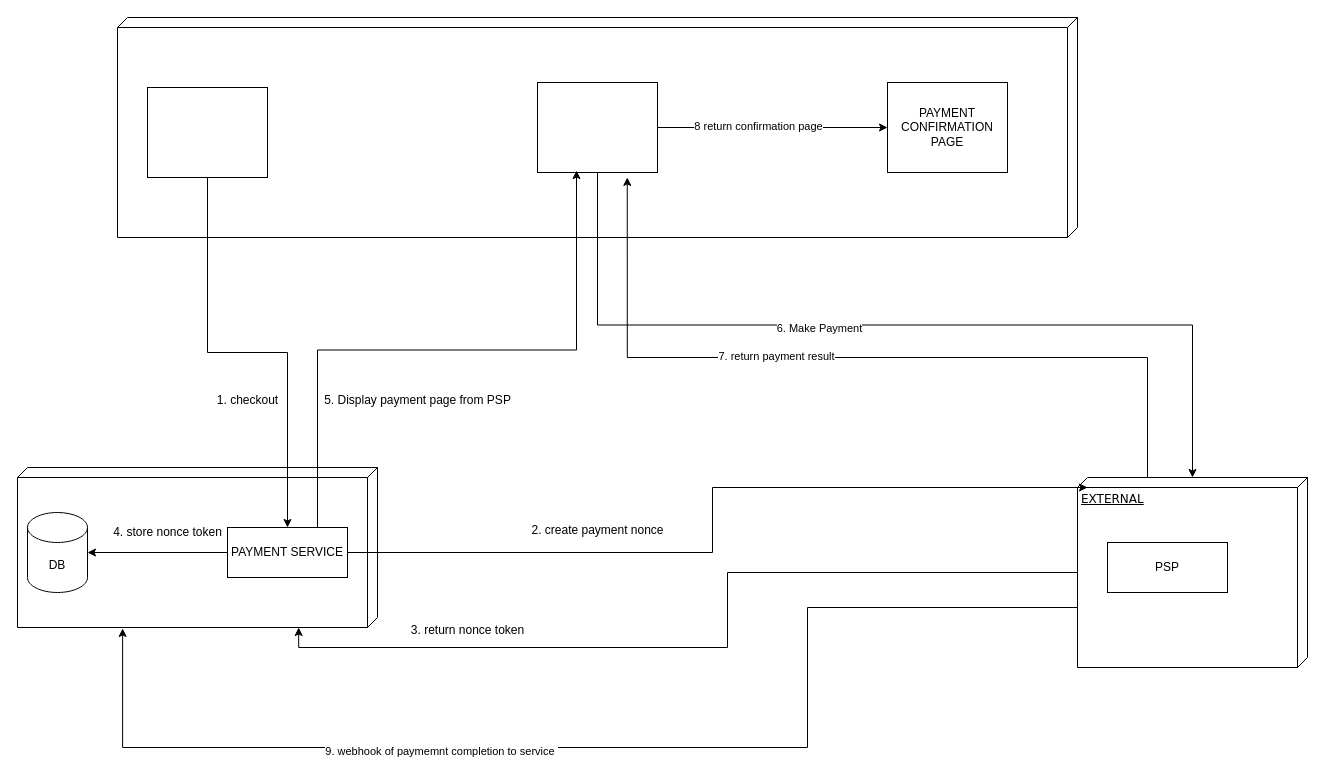
The diagram is 1325 pixels wide and 775 high, and some of its shapes have lost their labels. The shapes that lost their labels are listed below. From the top down, each one's box as (x1, y1, x2, y2) in pixels, then its label:
(146, 86, 268, 178): CHECKOUT PAGE
(536, 82, 658, 172): CLIENT BROWSER
(16, 466, 378, 628): PAYMENT SYSTEM
